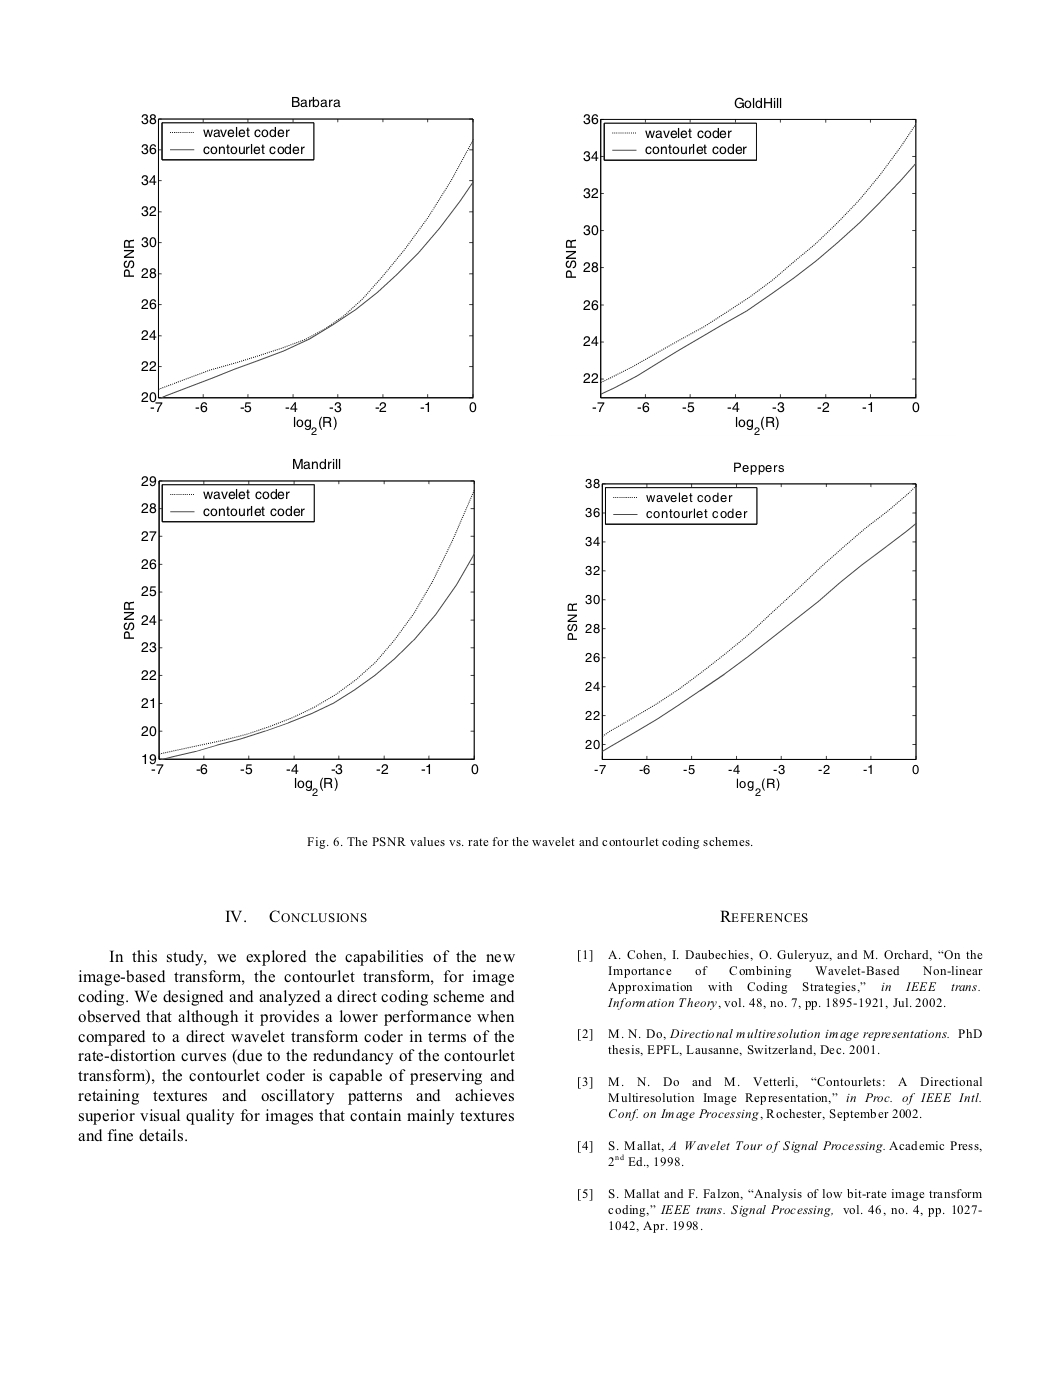figure: (123, 475, 478, 796), (565, 114, 919, 434), (123, 114, 476, 434), (567, 478, 918, 795)
